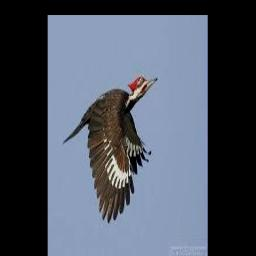Woodpecker: (63, 75, 157, 223)
